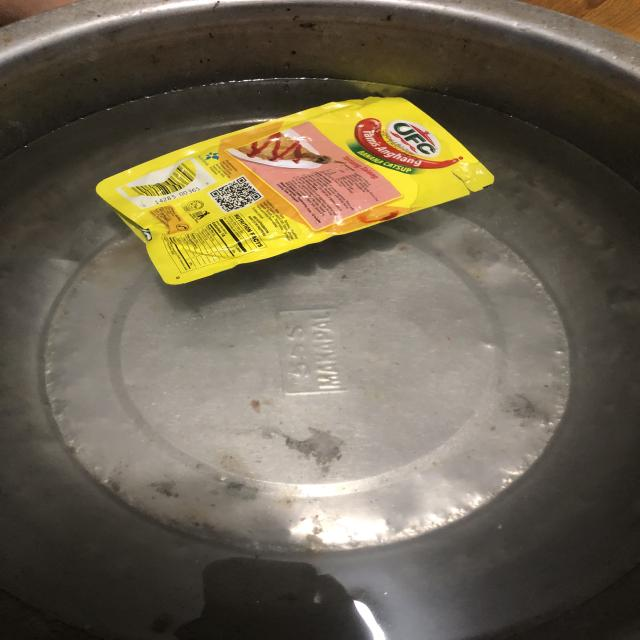Plastic Pouch: (51, 83, 520, 310)
